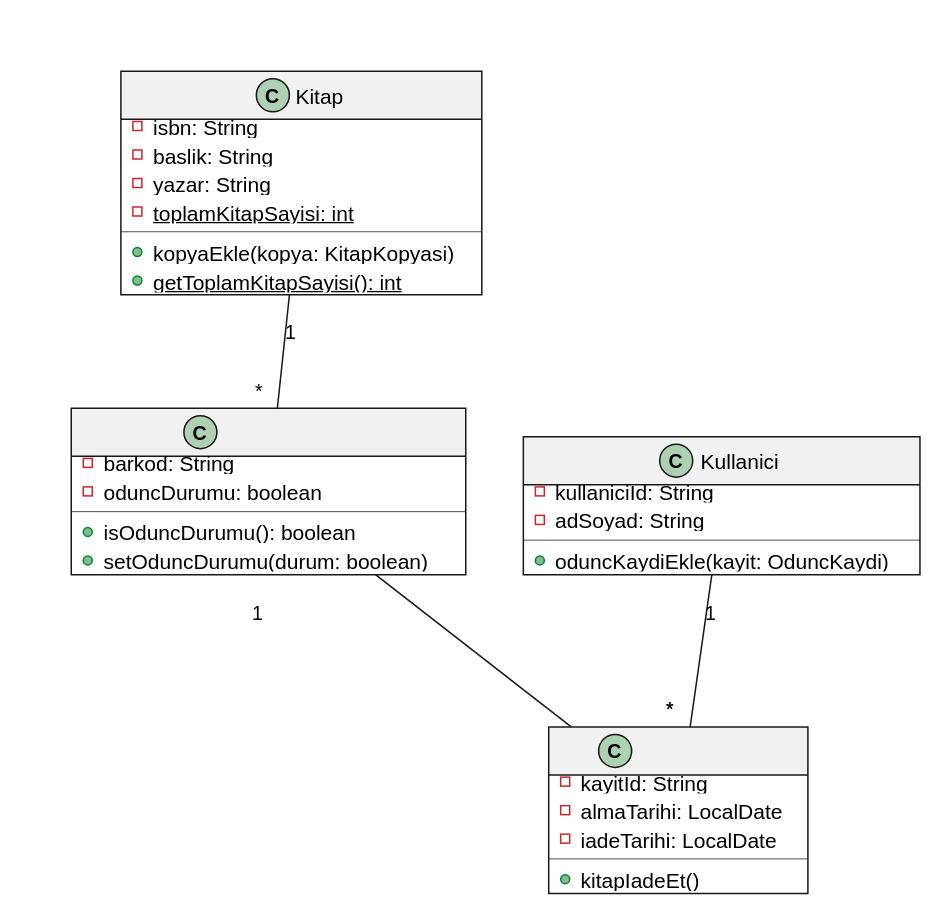
Some shapes in this 947 by 920 pixel diagram are drawn without their labels. The box of each missing label's shape, as (x1, y1, x2, y2) in pixels:
KitapKopyasi: (70, 407, 466, 575)
OduncKaydi: (547, 725, 808, 893)
